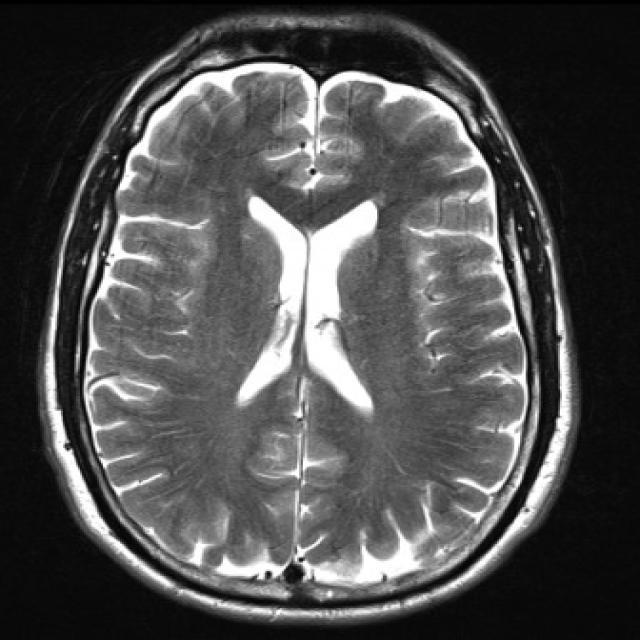No_Tumor: (39, 13, 578, 619)
